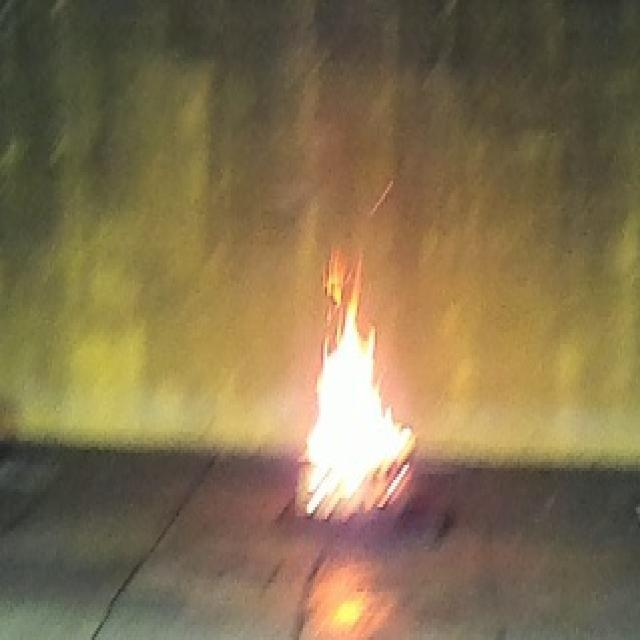Fire: (305, 245, 418, 522)
